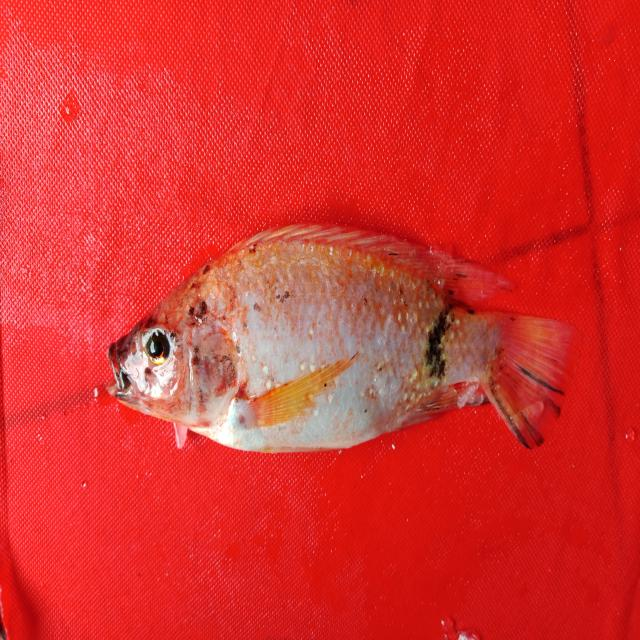ikan: (87, 209, 580, 469)
